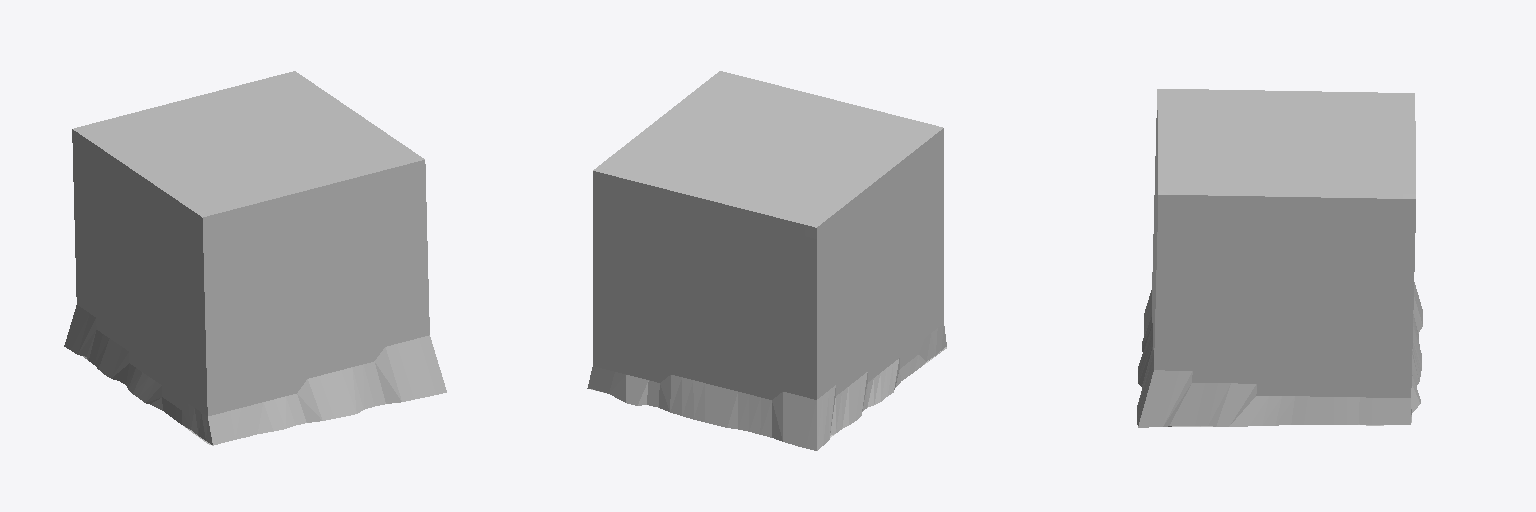
The model's file is mod0062.obj.
3 renders of one model, left to right at view 1: azimuth 30°, elevation 25°; view 2: azimuth 150°, elevation 25°; view 3: azimuth 270°, elevation 25°, orthographic.
Parts seen in each view (by area): view 1: Box001; view 2: Box001; view 3: Box001.
Part boxes in pixels (x1,y1,x2,y2): Box001: (64, 71, 446, 445); Box001: (587, 71, 946, 450); Box001: (1137, 89, 1422, 427).
Size of the model in its own units: 0.5799 by 0.5263 by 0.5979.